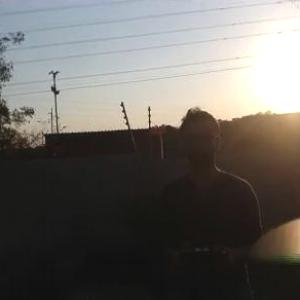follow: (150, 103, 267, 299)
